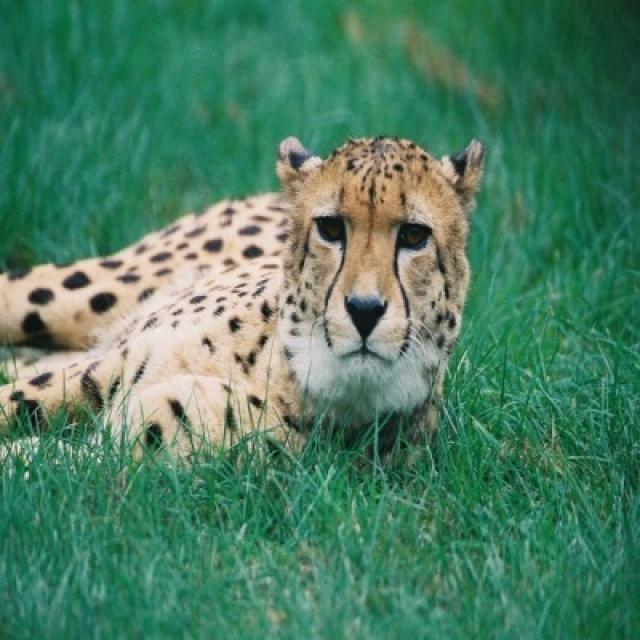Cheetah: (0, 136, 485, 462)
